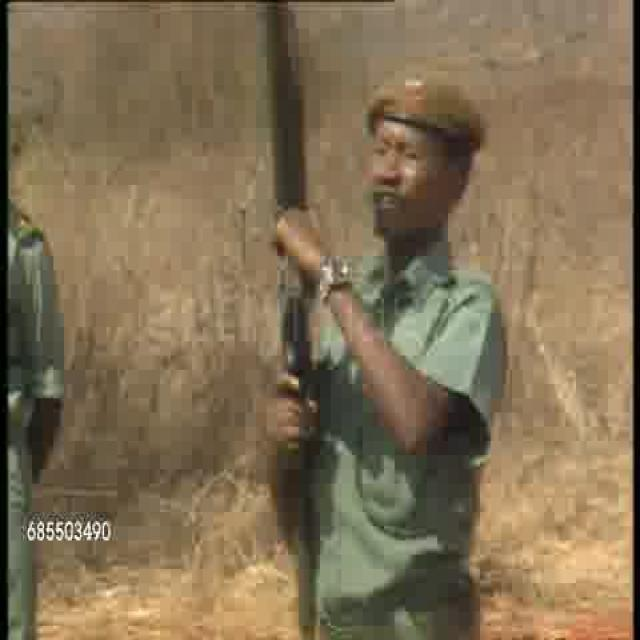poacher: (344, 45, 502, 600)
weapon: (257, 7, 332, 640)
